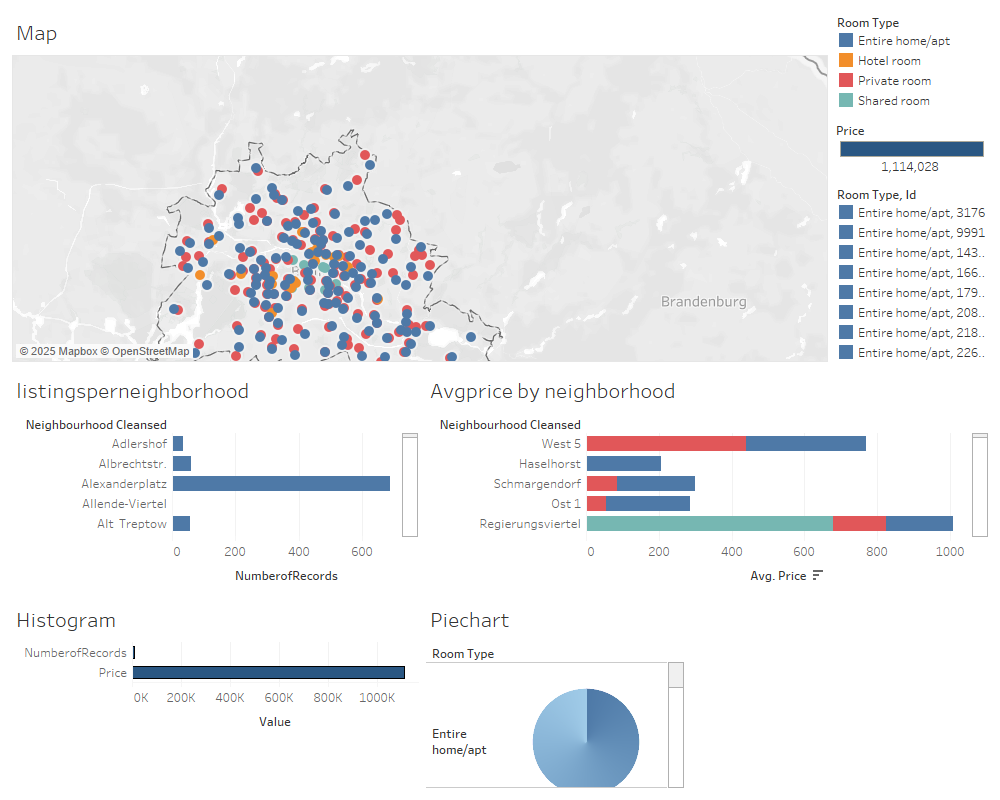

The dashboard page shown, as its layout file describes it:
{"tool":"tableau","page":{"name":"Berlin AirBnb DashBoard","canvas":[1000,800],"ordinal":0},"visuals":[{"type":"worksheet","title":"Map","mark":"Automatic","rows":["latitude"],"cols":["longitude"],"box":[8,8,824,358]},{"type":"legend","title":"Map","param":"[federated.1hx6zdx0rl6pjz12ecaki1gv3man].[none:room_type:nk]","box":[832,8,160,106]},{"type":"legend","title":"Histogram","param":"[federated.1hx6zdx0rl6pjz12ecaki1gv3man].[sum:price:qk]","box":[832,114,160,65]},{"type":"legend","title":"Piechart","param":"[federated.1hx6zdx0rl6pjz12ecaki1gv3man].[none:room_type:nk]\n[federated.1hx6zdx0","box":[832,179,160,187]},{"type":"worksheet","title":"listingsperneighborhood","mark":"Automatic","rows":["neighbourhood_cleansed"],"cols":["Calculation_359162074558038016"],"box":[8,366,414,229.2]},{"type":"worksheet","title":"Avgprice by neighborhood","mark":"Bar","rows":["neighbourhood_cleansed"],"cols":["price"],"box":[422,366,570,229.2]},{"type":"worksheet","title":"Histogram","mark":"Bar","box":[8,595.2,414,196.8]},{"type":"worksheet","title":"Piechart","mark":"Pie","rows":["room_type"],"box":[422,595.2,570,196.8]}]}

Visuals, with their boxes in screenshot pixels (x1, y1, x2, y2), scaled from the page's 1000x800 canvas onto the 1000x800 screenshot:
"Map" worksheet: rect(8, 8, 832, 366)
"Map" legend: rect(832, 8, 992, 114)
"Histogram" legend: rect(832, 114, 992, 179)
"Piechart" legend: rect(832, 179, 992, 366)
"listingsperneighborhood" worksheet: rect(8, 366, 422, 595)
"Avgprice by neighborhood" worksheet (Bar marks): rect(422, 366, 992, 595)
"Histogram" worksheet (Bar marks): rect(8, 595, 422, 792)
"Piechart" worksheet (Pie marks): rect(422, 595, 992, 792)
